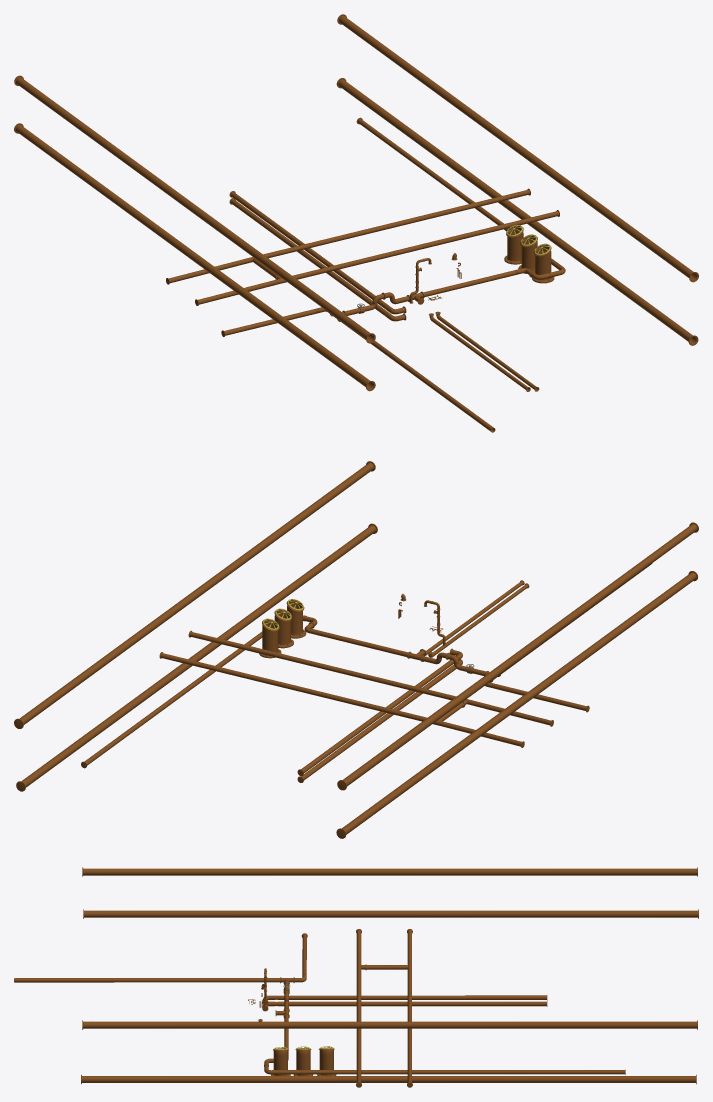
The model's file is pipes.glb.
The picture shows the model from 3 angles, top to bottom: view 1: azimuth 30°, elevation 25°; view 2: azimuth 150°, elevation 25°; view 3: azimuth 270°, elevation 25°; orthographic projection. The views are drawn at different scales.
Parts seen in each view (by area): view 1: pipe.042, pipe.038, pipe.039, pipe.040, pipe.037, pipe.043, pipe.026, pipe.029, pipe.032; view 2: pipe.042, pipe.040, pipe.038, pipe.039, pipe.037, pipe.043, pipe.026, pipe.029, pipe.041, pipe.034; view 3: pipe.038, pipe.039, pipe.040, pipe.037, pipe.042, pipe.043, pipe.029, pipe.026, pipe.032, pipe.034, pipe.035, pipe.036.
Boxes of the visible parts, x1,y1,x2,y2 form: pipe.042: (166,188,559,305); pipe.038: (337,14,698,282); pipe.039: (14,123,375,391); pipe.040: (14,75,375,343); pipe.037: (336,78,698,345); pipe.043: (356,117,565,279); pipe.026: (229,191,406,314); pipe.029: (229,198,406,321); pipe.032: (337,319,495,432); pipe.042: (159,630,553,747); pipe.040: (337,522,698,790); pipe.038: (14,461,375,728); pipe.039: (336,571,697,838); pipe.037: (16,523,377,791); pipe.043: (81,615,317,768); pipe.026: (297,648,462,775); pipe.029: (297,659,462,782); pipe.041: (304,622,408,657); pipe.034: (259,618,281,658); pipe.038: (82,1020,697,1029); pipe.039: (83,909,698,918); pipe.040: (82,867,697,876); pipe.037: (81,1074,696,1084); pipe.042: (356,929,412,1087); pipe.043: (264,1058,625,1074); pipe.029: (262,1001,547,1011); pipe.026: (262,995,547,1004); pipe.032: (14,977,280,982); pipe.034: (317,1046,336,1075); pipe.035: (293,1046,313,1075); pipe.036: (271,1047,290,1075).
Size of the model in its own units: 18.27 by 4.84 by 33.85.
Materials: 3 (1 with a texture image).
